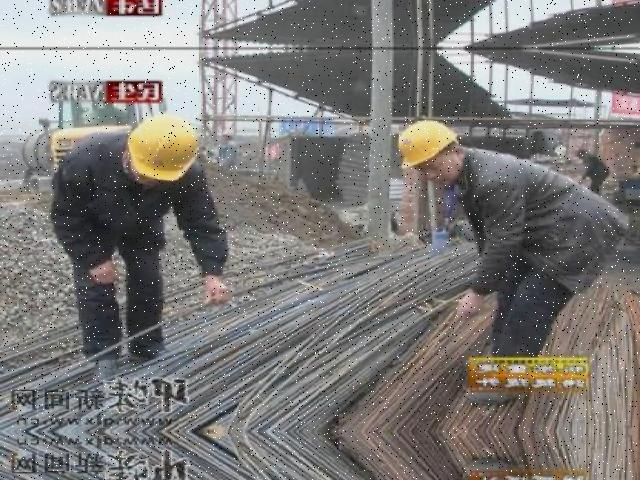Helmet: (126, 108, 208, 187), (391, 117, 468, 172)
